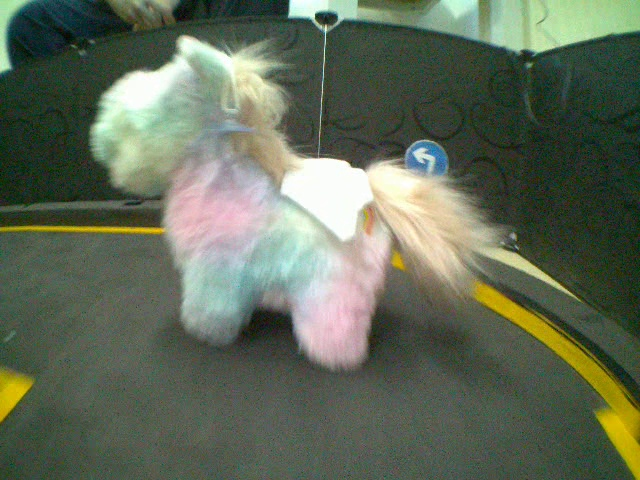unicorn: (87, 32, 506, 376)
